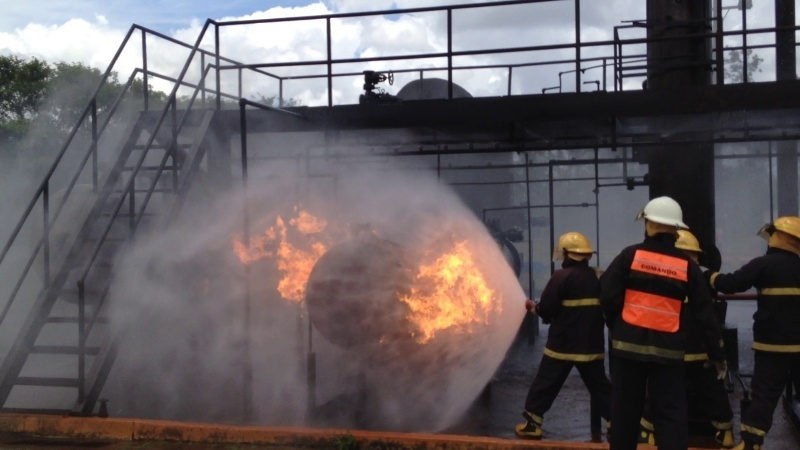fire: (390, 237, 503, 345), (234, 202, 337, 307)
